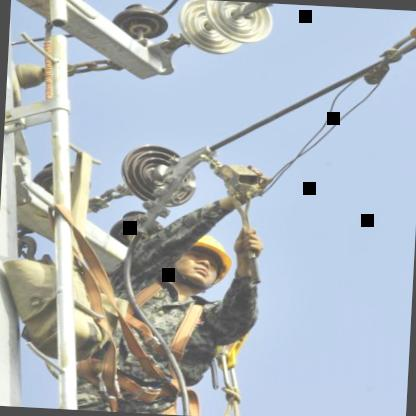helmet: (169, 230, 239, 296)
